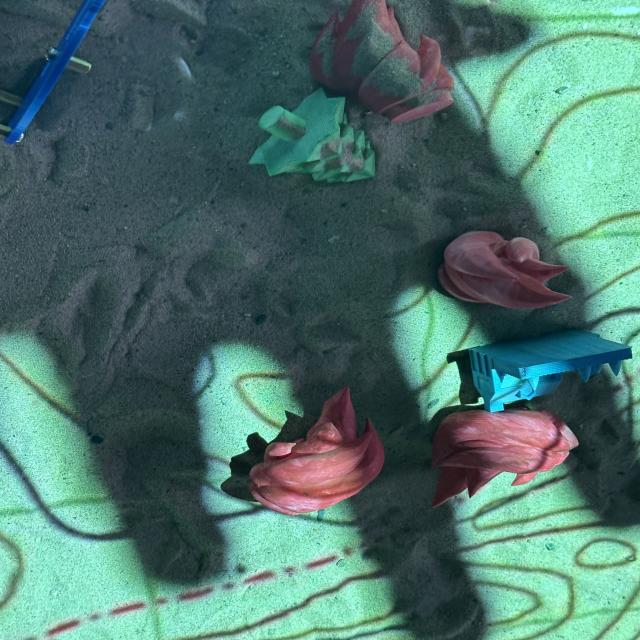fire: (308, 0, 456, 125), (247, 386, 386, 517), (436, 409, 580, 506), (440, 232, 574, 309)
house: (448, 328, 633, 413)
tree: (248, 87, 376, 183)
